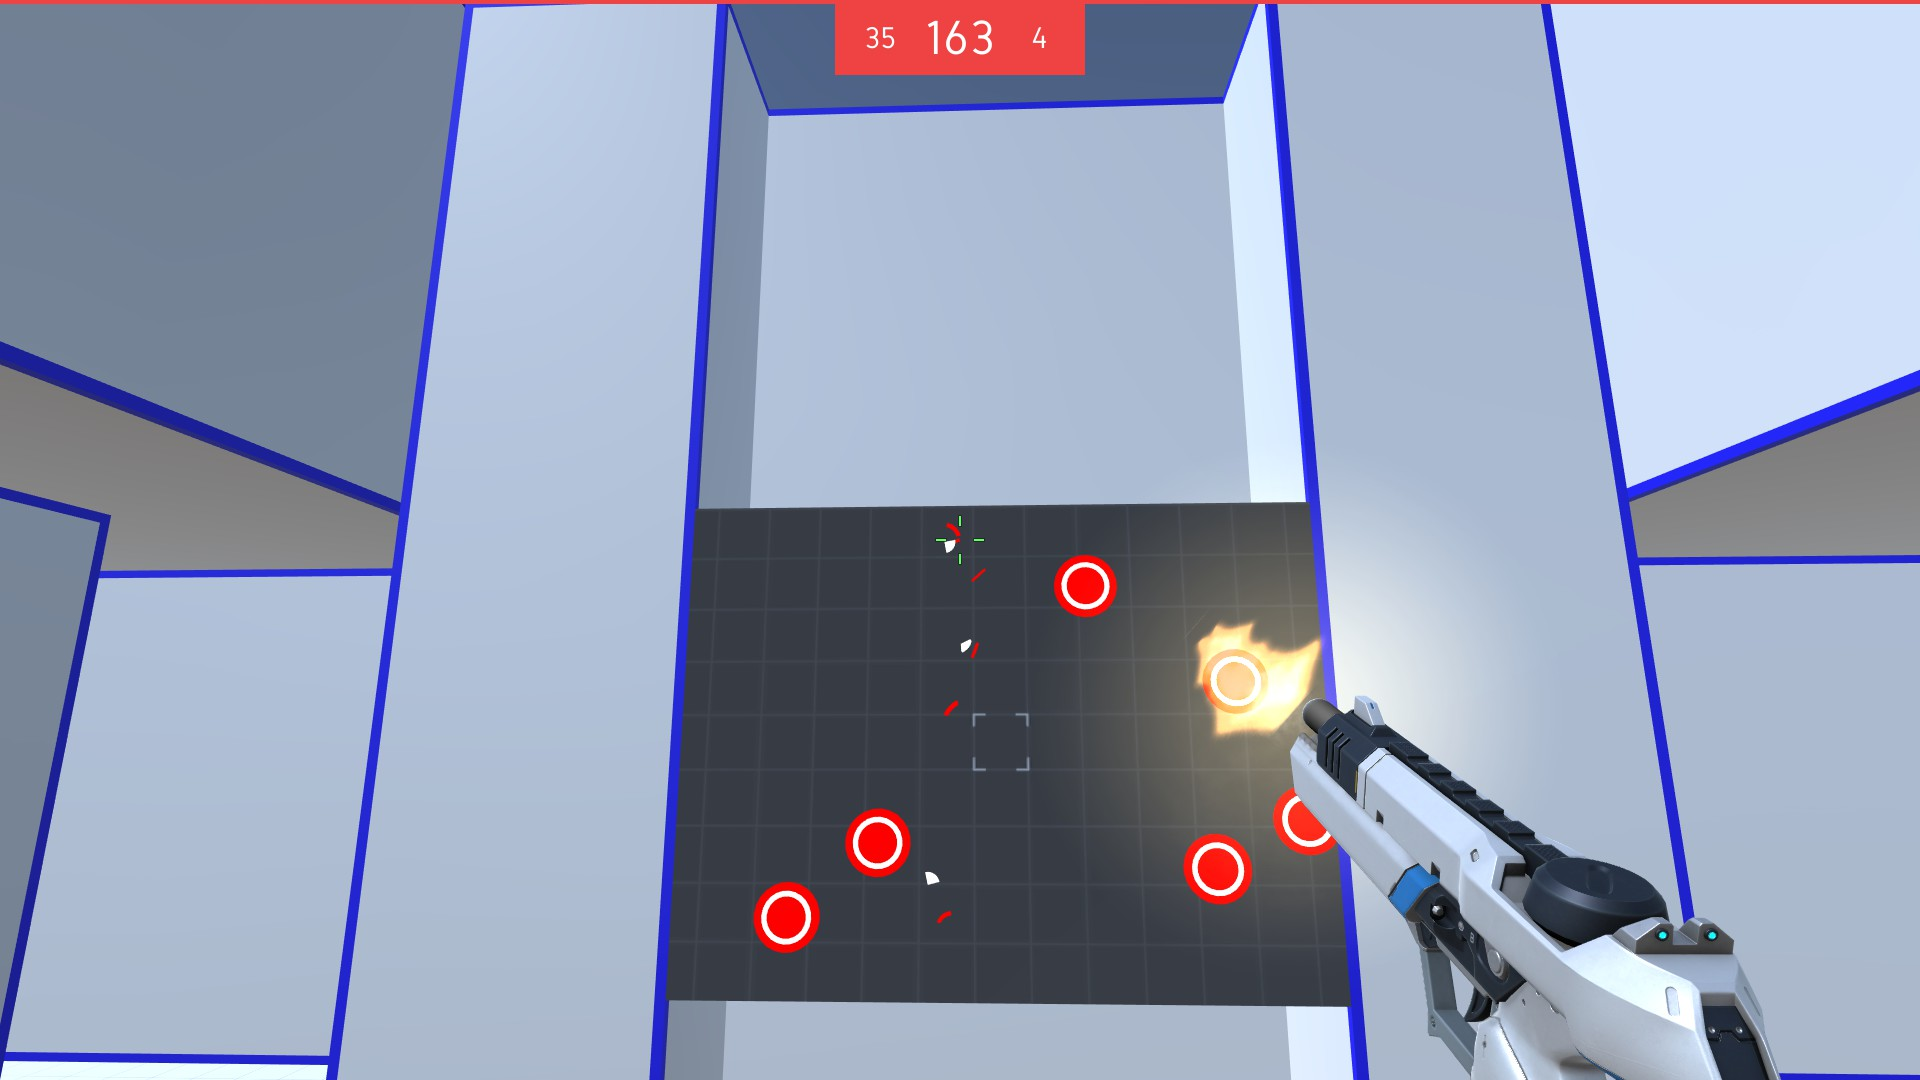target: (840, 804, 916, 884), (1180, 833, 1254, 907), (752, 880, 823, 956), (1273, 786, 1342, 860), (1199, 647, 1271, 716), (1052, 554, 1118, 622)
